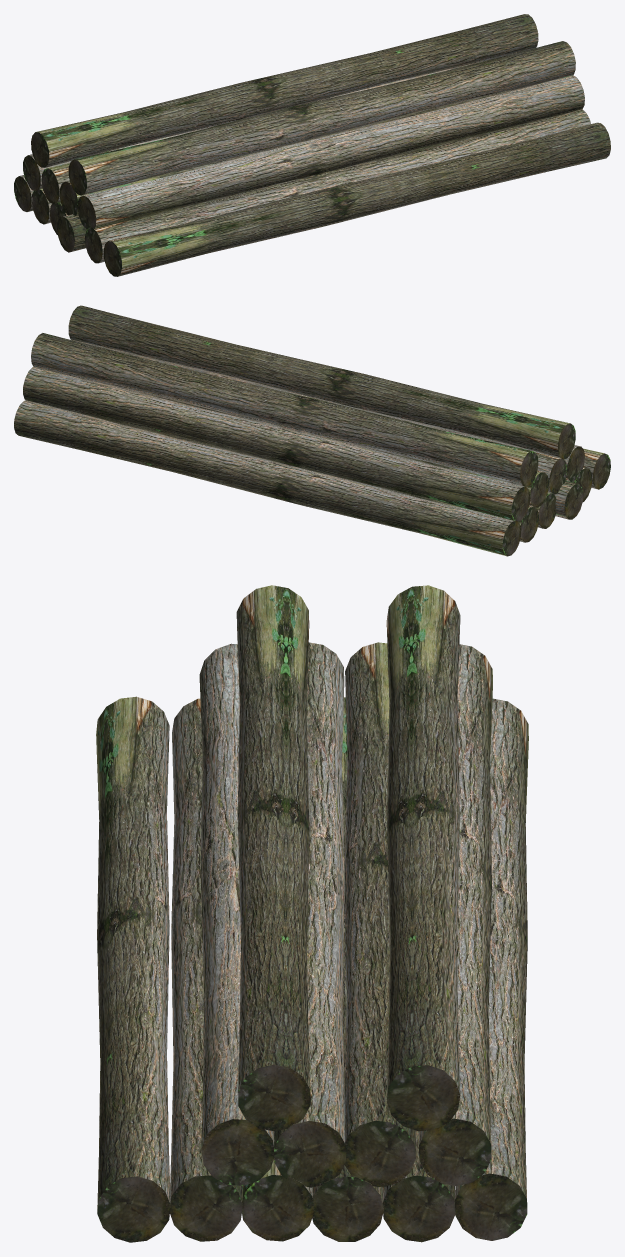
File: treelogs.dae
3 renders of one model, top to bottom at view 1: azimuth 30°, elevation 25°; view 2: azimuth 150°, elevation 25°; view 3: azimuth 270°, elevation 25°, orthographic. The views are drawn at different scales.
Parts seen in each view (by area): view 1: meshU3D; view 2: meshU3D; view 3: meshU3D.
Part boxes in pixels (left/top/right/bottom): meshU3D: left=14, top=14, right=610, bottom=276; meshU3D: left=14, top=305, right=610, bottom=556; meshU3D: left=96, top=585, right=528, bottom=1242.
Bounding box in the file's own units: 205 × 35.43 × 76.89.
Materials: 1 (1 with a texture image).
